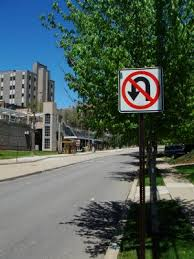No_u_turn: (121, 70, 161, 109)
